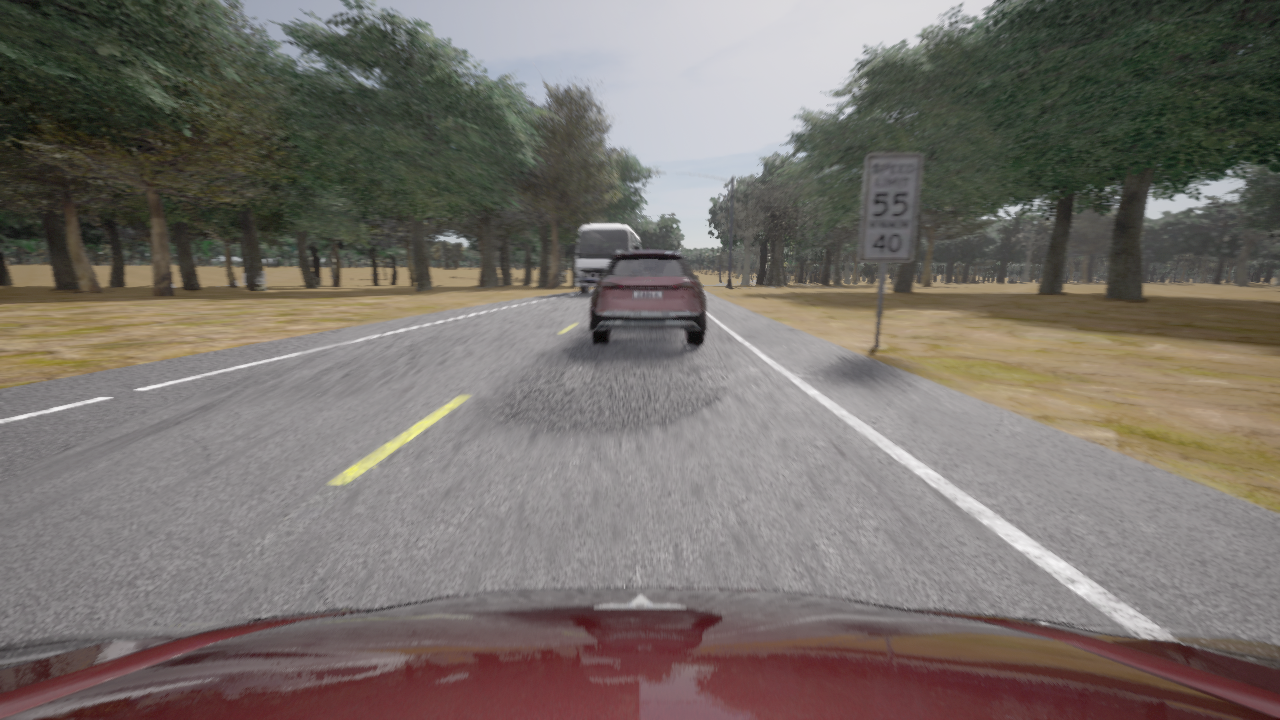cyclist: (0, 588, 1279, 719), (590, 247, 705, 344), (570, 224, 641, 294)
